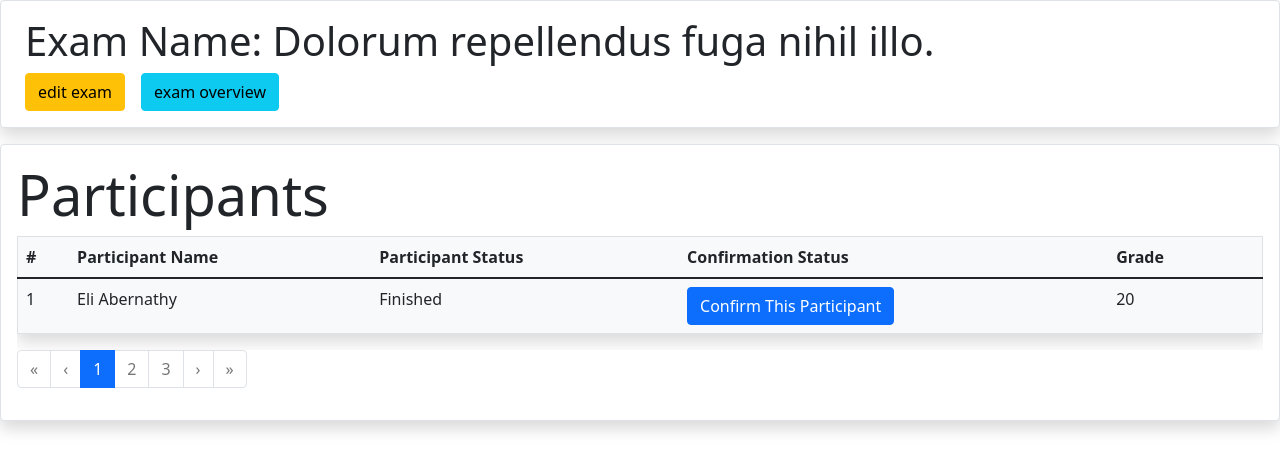
it: check more button › when exam needs confirmation › if exam is not started, more button must not be shown before confirming participant
Expected: the button "more" is not shown
Click the button "Confirm This Participant".
click(791, 306)  # box [687,287,894,325]
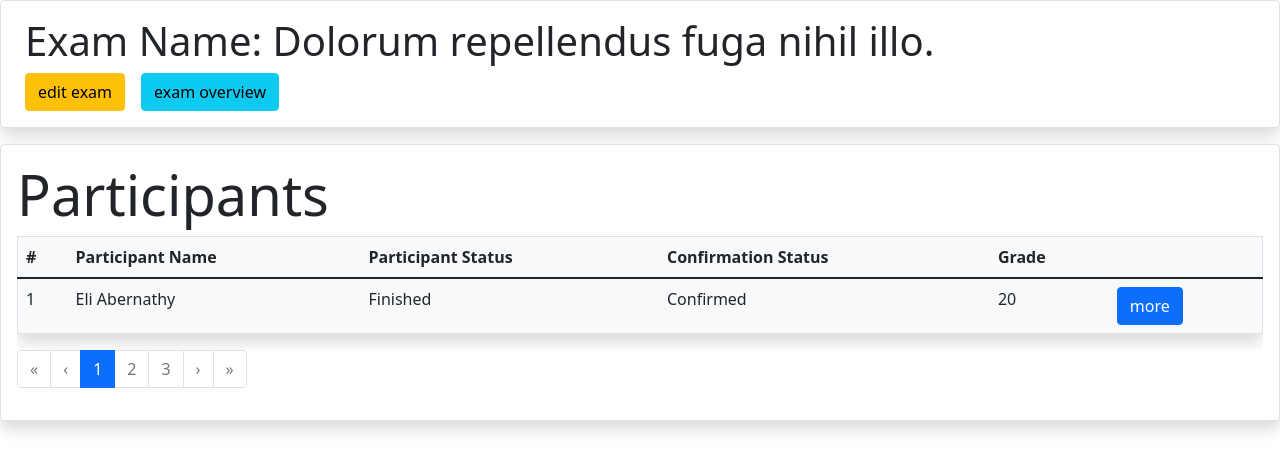
Now the button "more" is shown, box [1117,287,1183,325]
